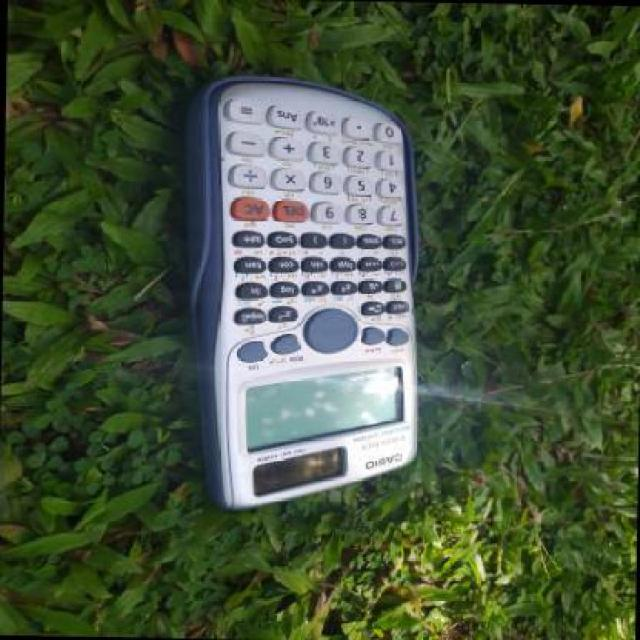Calculator: (186, 68, 437, 521)
